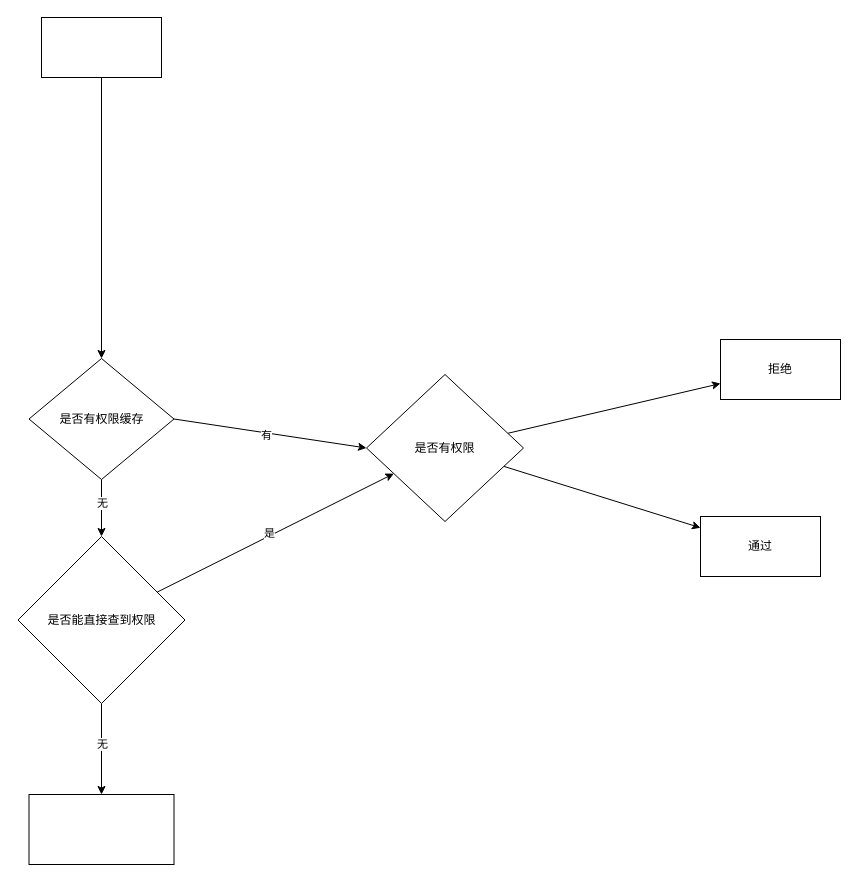
Some shapes in this 858 by 882 pixel diagram are drawn without their labels. The centre of each missing label's shape, as x and y in pixels:
"用户权限验证" goes at (x=101, y=47).
"获取当前账号全部账号组" goes at (x=101, y=829).
